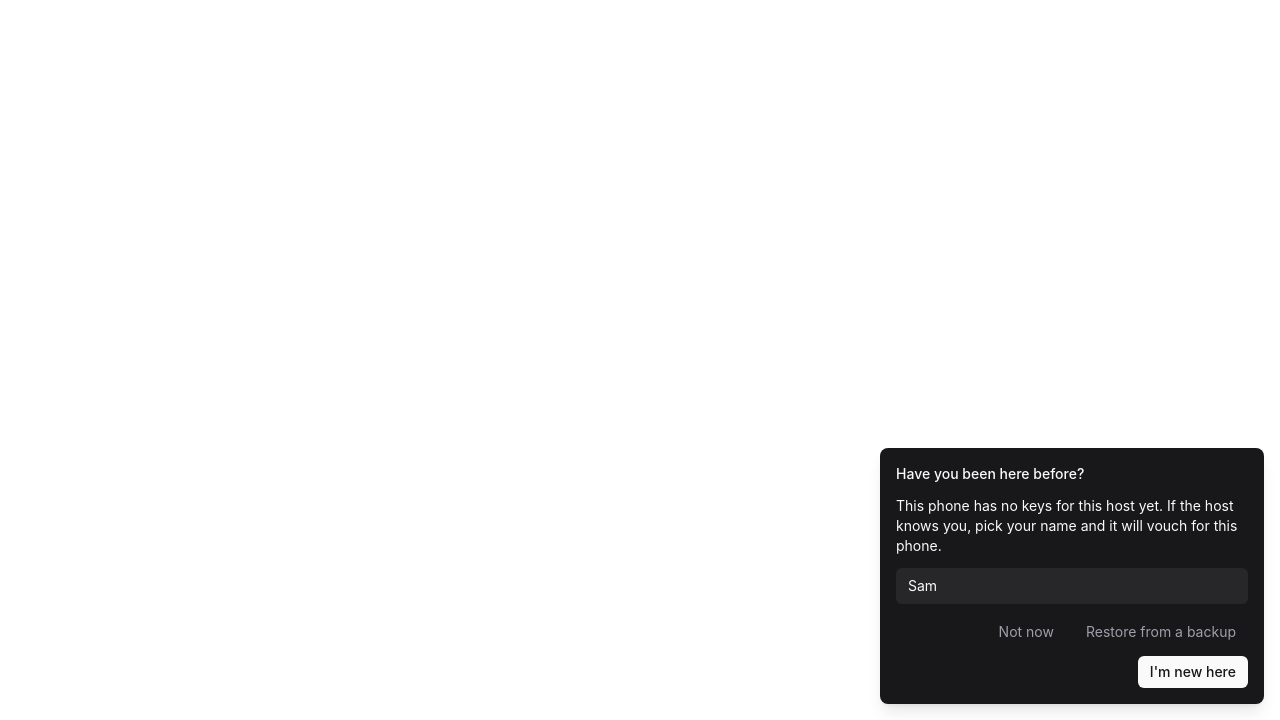
Test case: PersonKeyBackupPrompt › asks a keyless guest of a host that knows people who they are
Check: the dialog "Have you been here before?" is shown, box [880,448,1264,704]
Click the button "I'm new here": (1193, 672) [1138,656,1248,688]
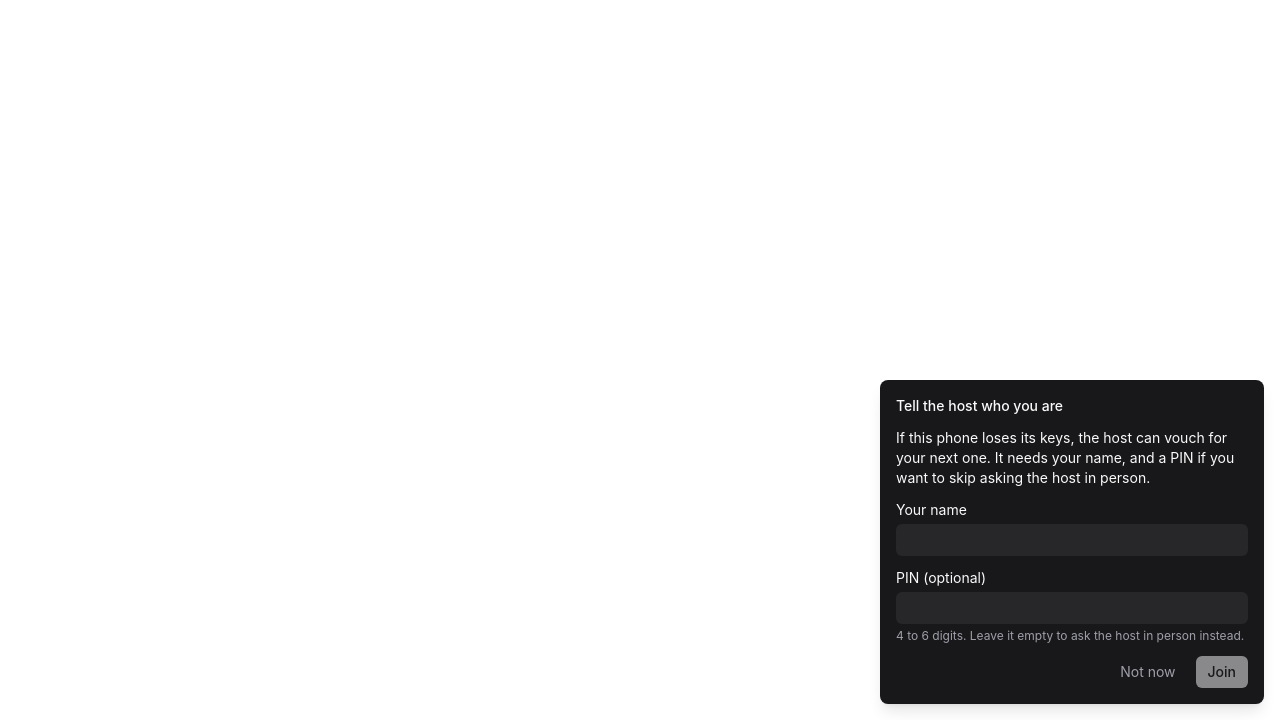
Check: the dialog "Tell the host who you are" is shown, box [880,380,1264,704]
